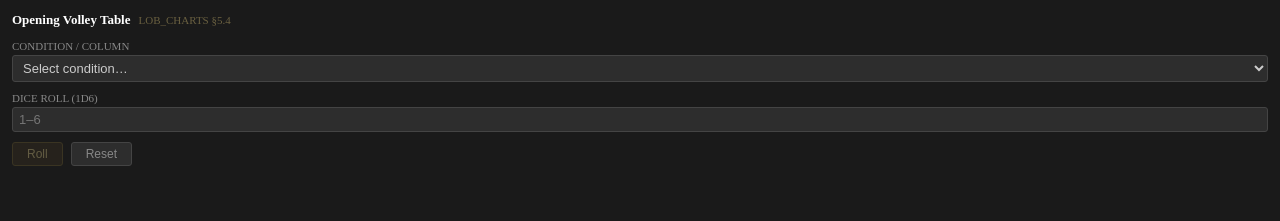
Scenario: OpeningVolleyPanel › reset clears result
This screenshot has width=1280, height=221.
Select "Charge" in the dropdown labelled "Condition / Column" at {"x": 640, "y": 68}, box 12,55 -> 1268,82
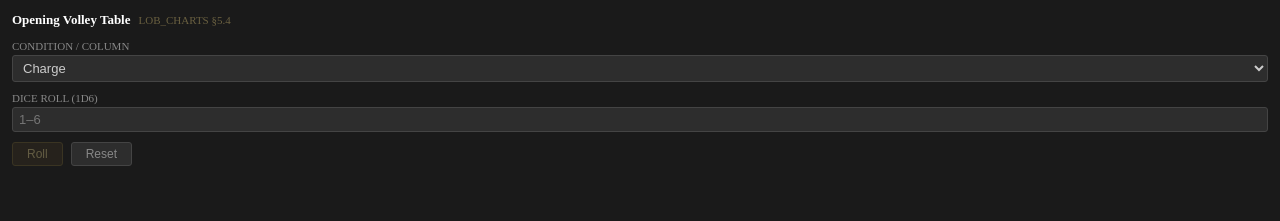
Type "5" into the number field labelled "Dice Roll (1d6)".
click(640, 120); type("5")  # box 12,107 -> 1268,132
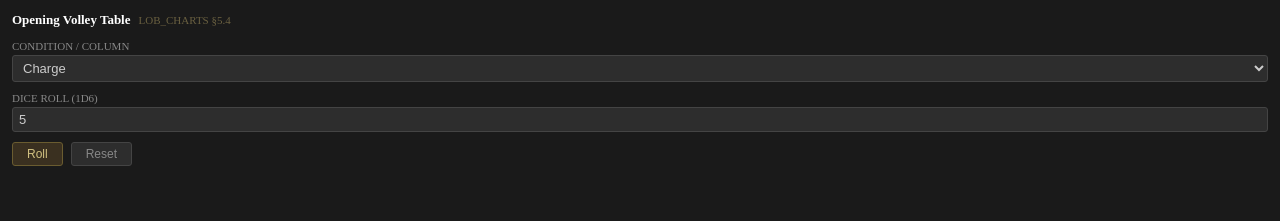
Click the button "Roll".
click(37, 154)  # box 12,142 -> 63,166
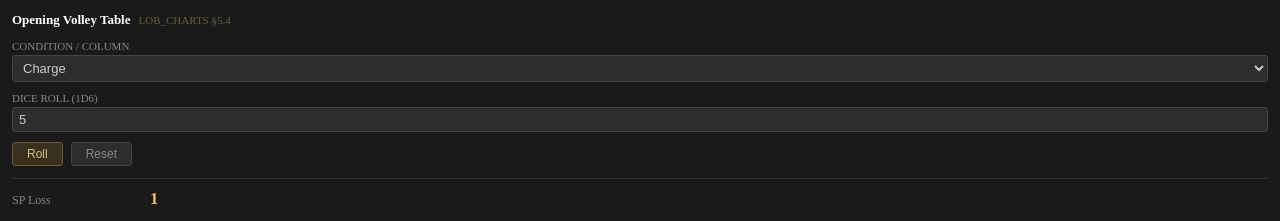
Click the button "Reset".
click(101, 154)  # box 71,142 -> 132,166
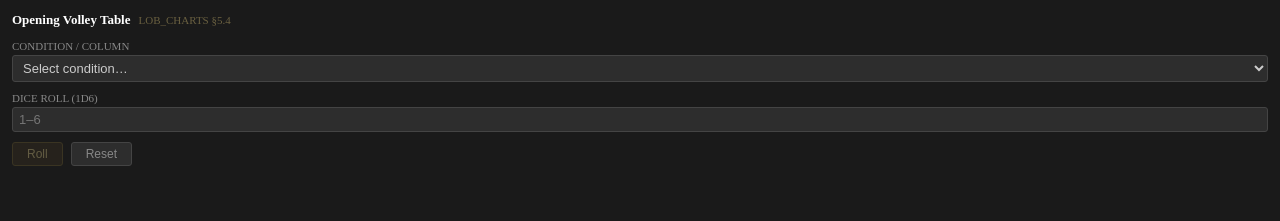
Expected: the text "SP Loss" is gone
